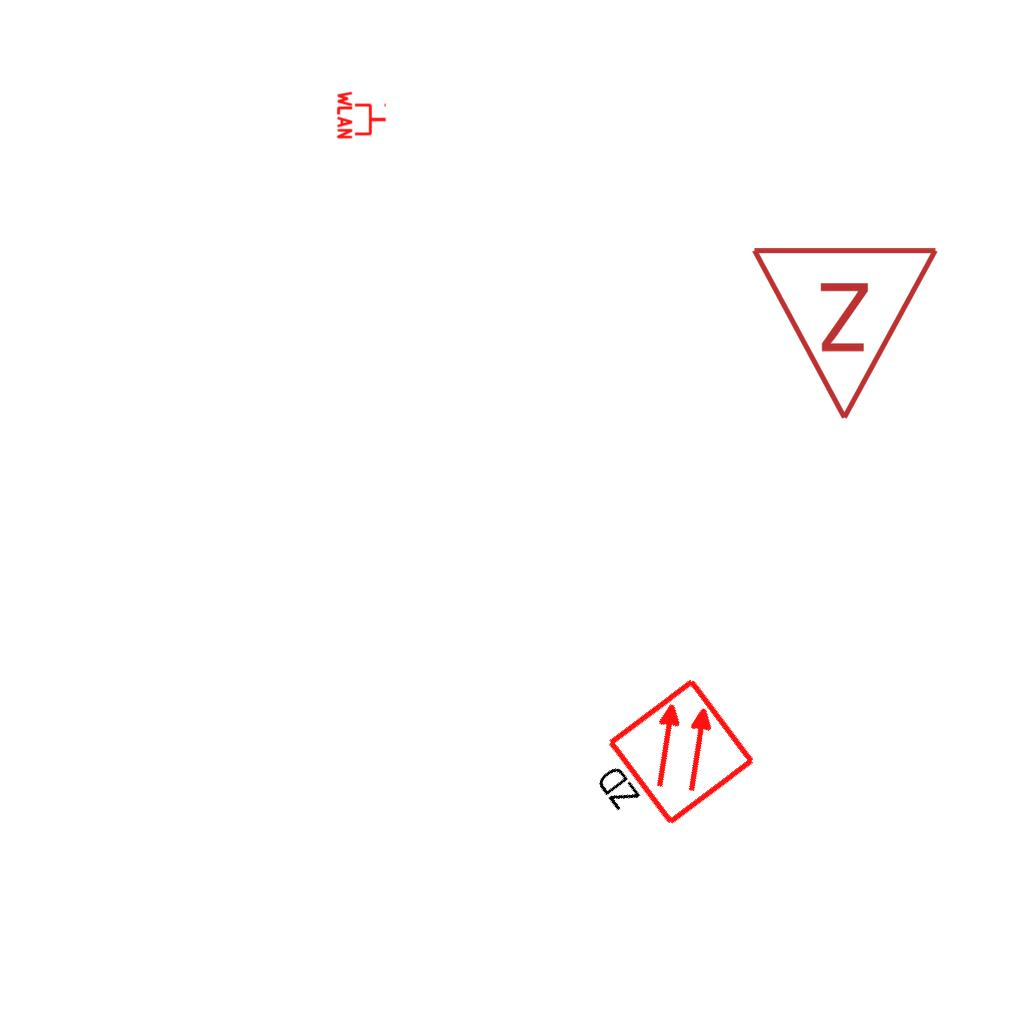WLAN: (336, 89, 388, 141)
ZD_Melder_in_Zwischendecke_mit_Revisionsoeffnung_mind_40_x_40_cm: (573, 674, 761, 855)
Zimmersignalleuchte: (749, 233, 945, 433)
